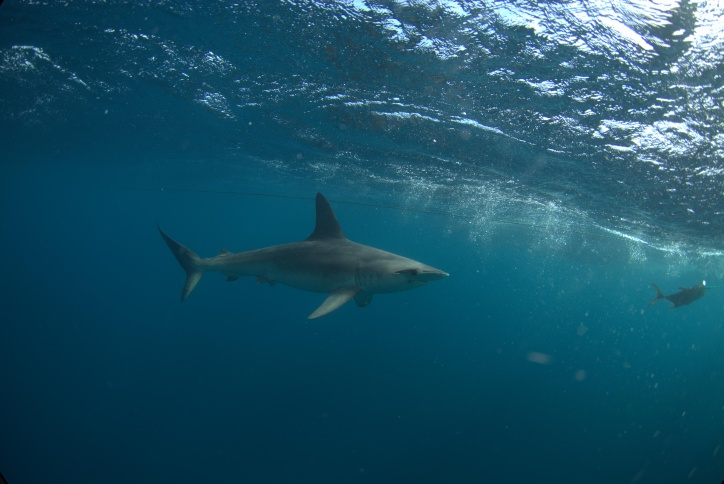Hammer: (148, 186, 467, 334)
